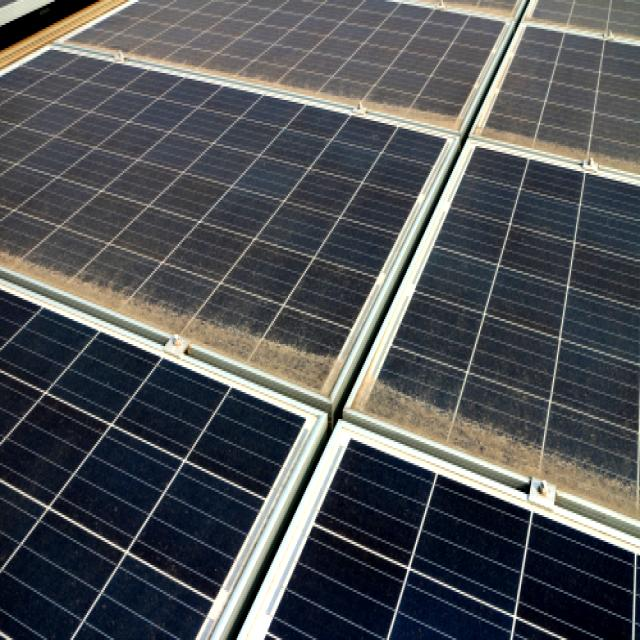dust: (372, 346, 640, 519), (481, 0, 630, 199), (30, 483, 224, 616), (279, 32, 461, 154), (84, 9, 270, 109), (159, 312, 366, 395), (0, 253, 175, 326)
